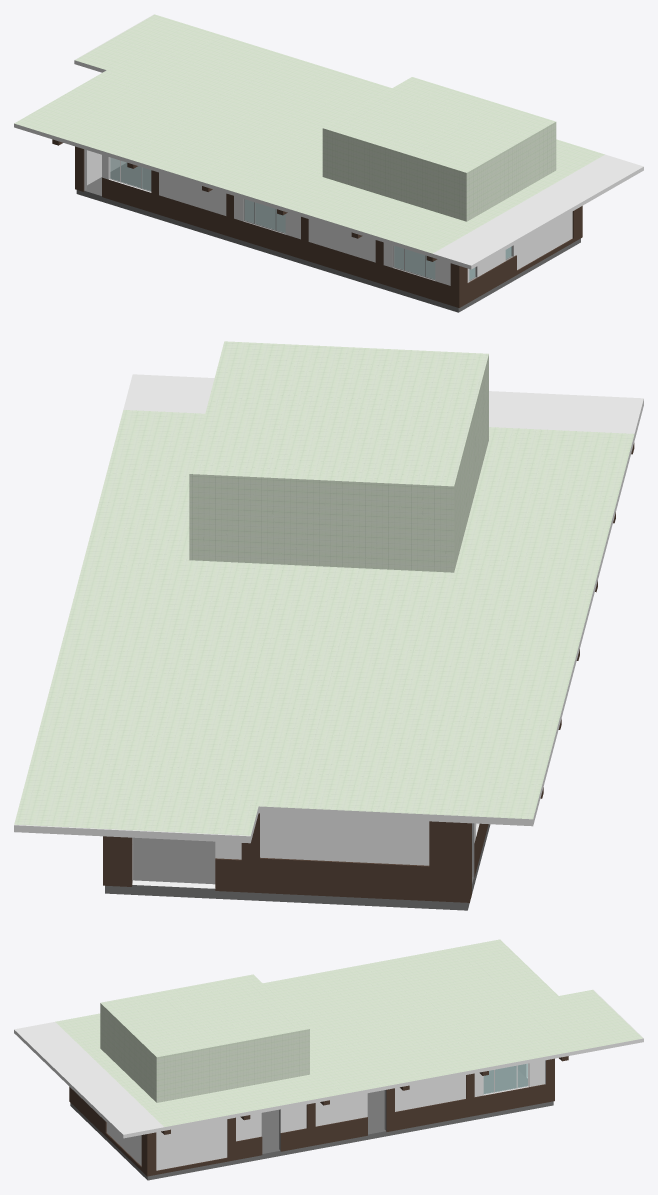
Rendered from A棟附屬.gltf.
3 renders of one model, top to bottom at view 1: azimuth 30°, elevation 25°; view 2: azimuth 150°, elevation 25°; view 3: azimuth 270°, elevation 25°, orthographic. The views are drawn at different scales.
Bounding box in the file's own units: 22.95 × 6.25 × 31.27.
Materials: 8 (1 with a texture image).
